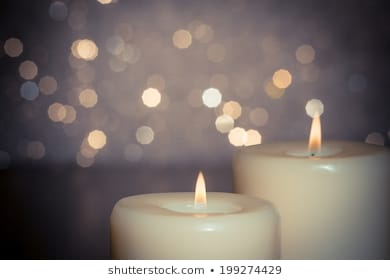Fire: (192, 169, 211, 205), (309, 111, 323, 154)
